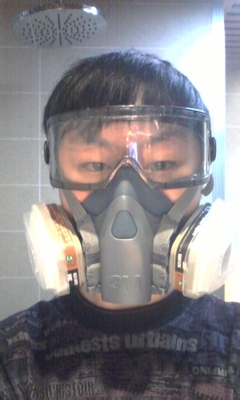face_mask: (54, 107, 204, 303)
